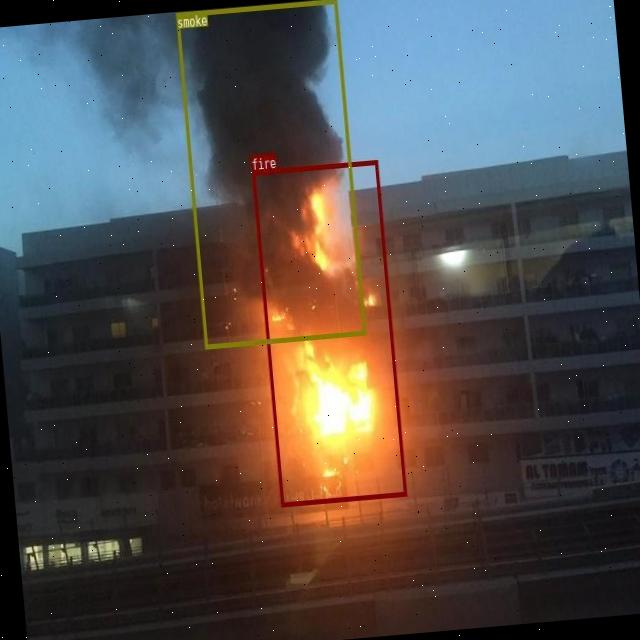fire: (252, 159, 406, 506)
smoke: (174, 0, 365, 347)
